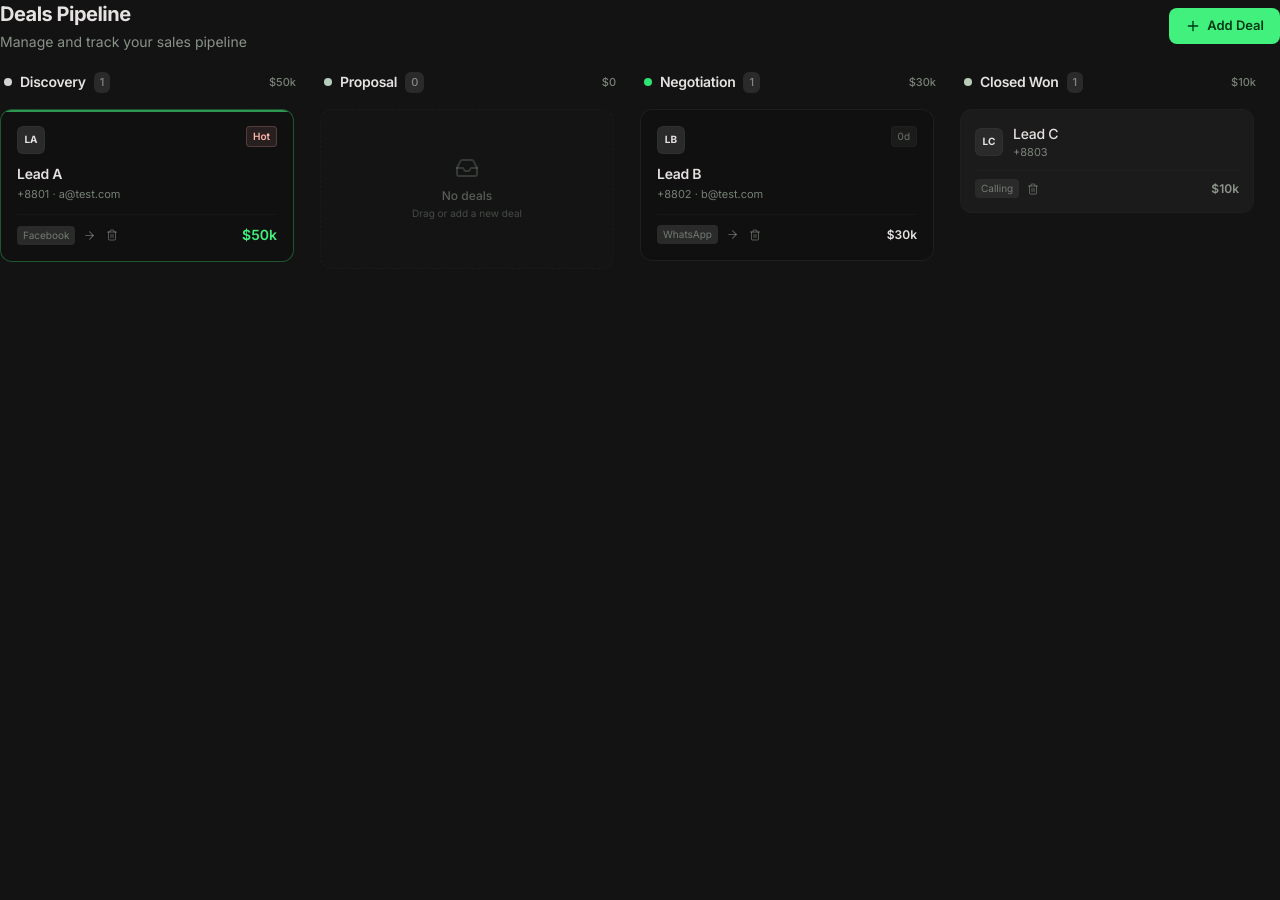
Test case: Leads Page › opens add deal modal
The width and height of the screenshot is (1280, 900).
expect the heading "Deals Pipeline" is shown: met, box [0,2,131,26]
What coordinates should you click on to do the following:
click the button "Add Deal"
I would click on:
 (1225, 26)
Its box is [1169,8,1279,44].
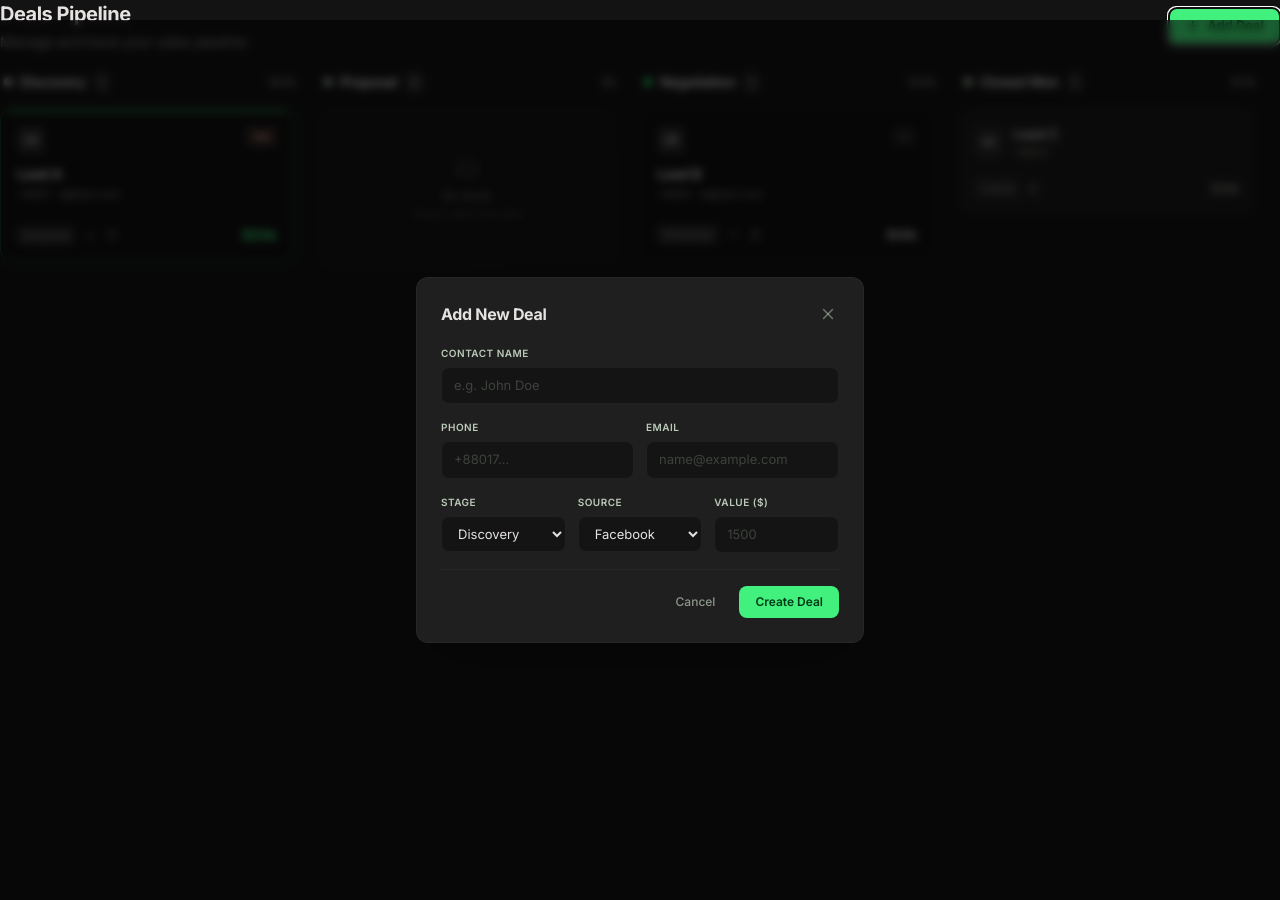
expect the heading "Add New Deal" is shown: met, box [441,302,546,326]
